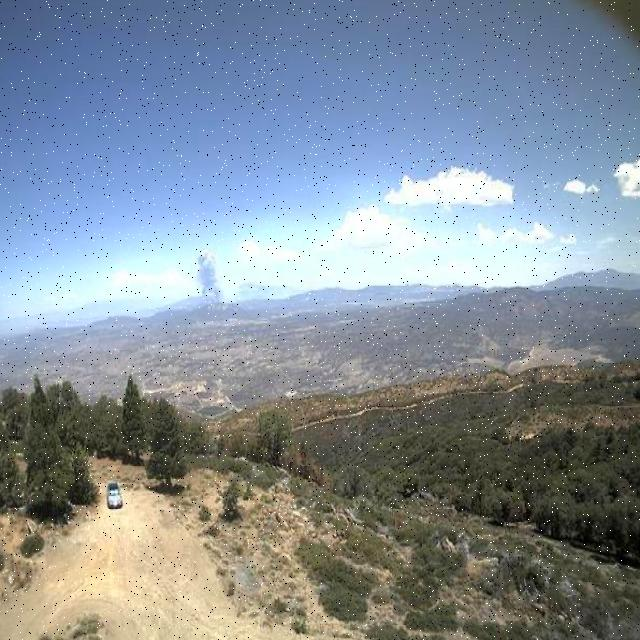smoke: (191, 252, 227, 312)
